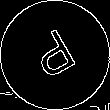P_SE: (26, 24, 84, 86)
